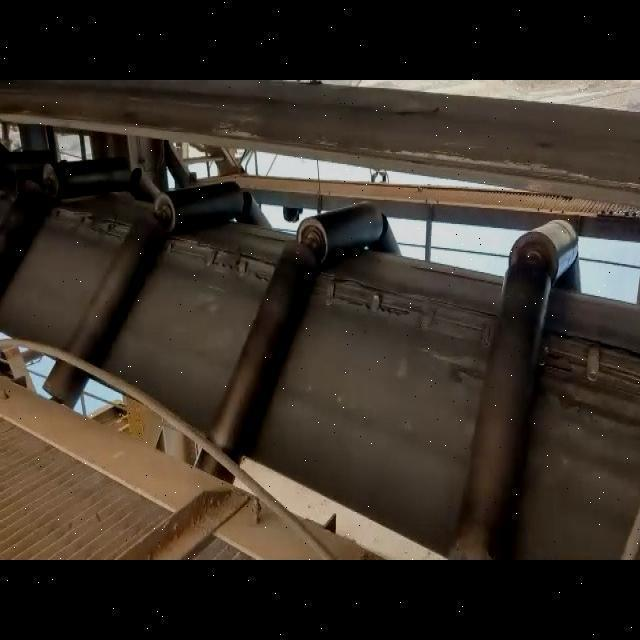Tear: (312, 262, 499, 348), (533, 317, 640, 410), (165, 220, 281, 288), (45, 202, 143, 252)
